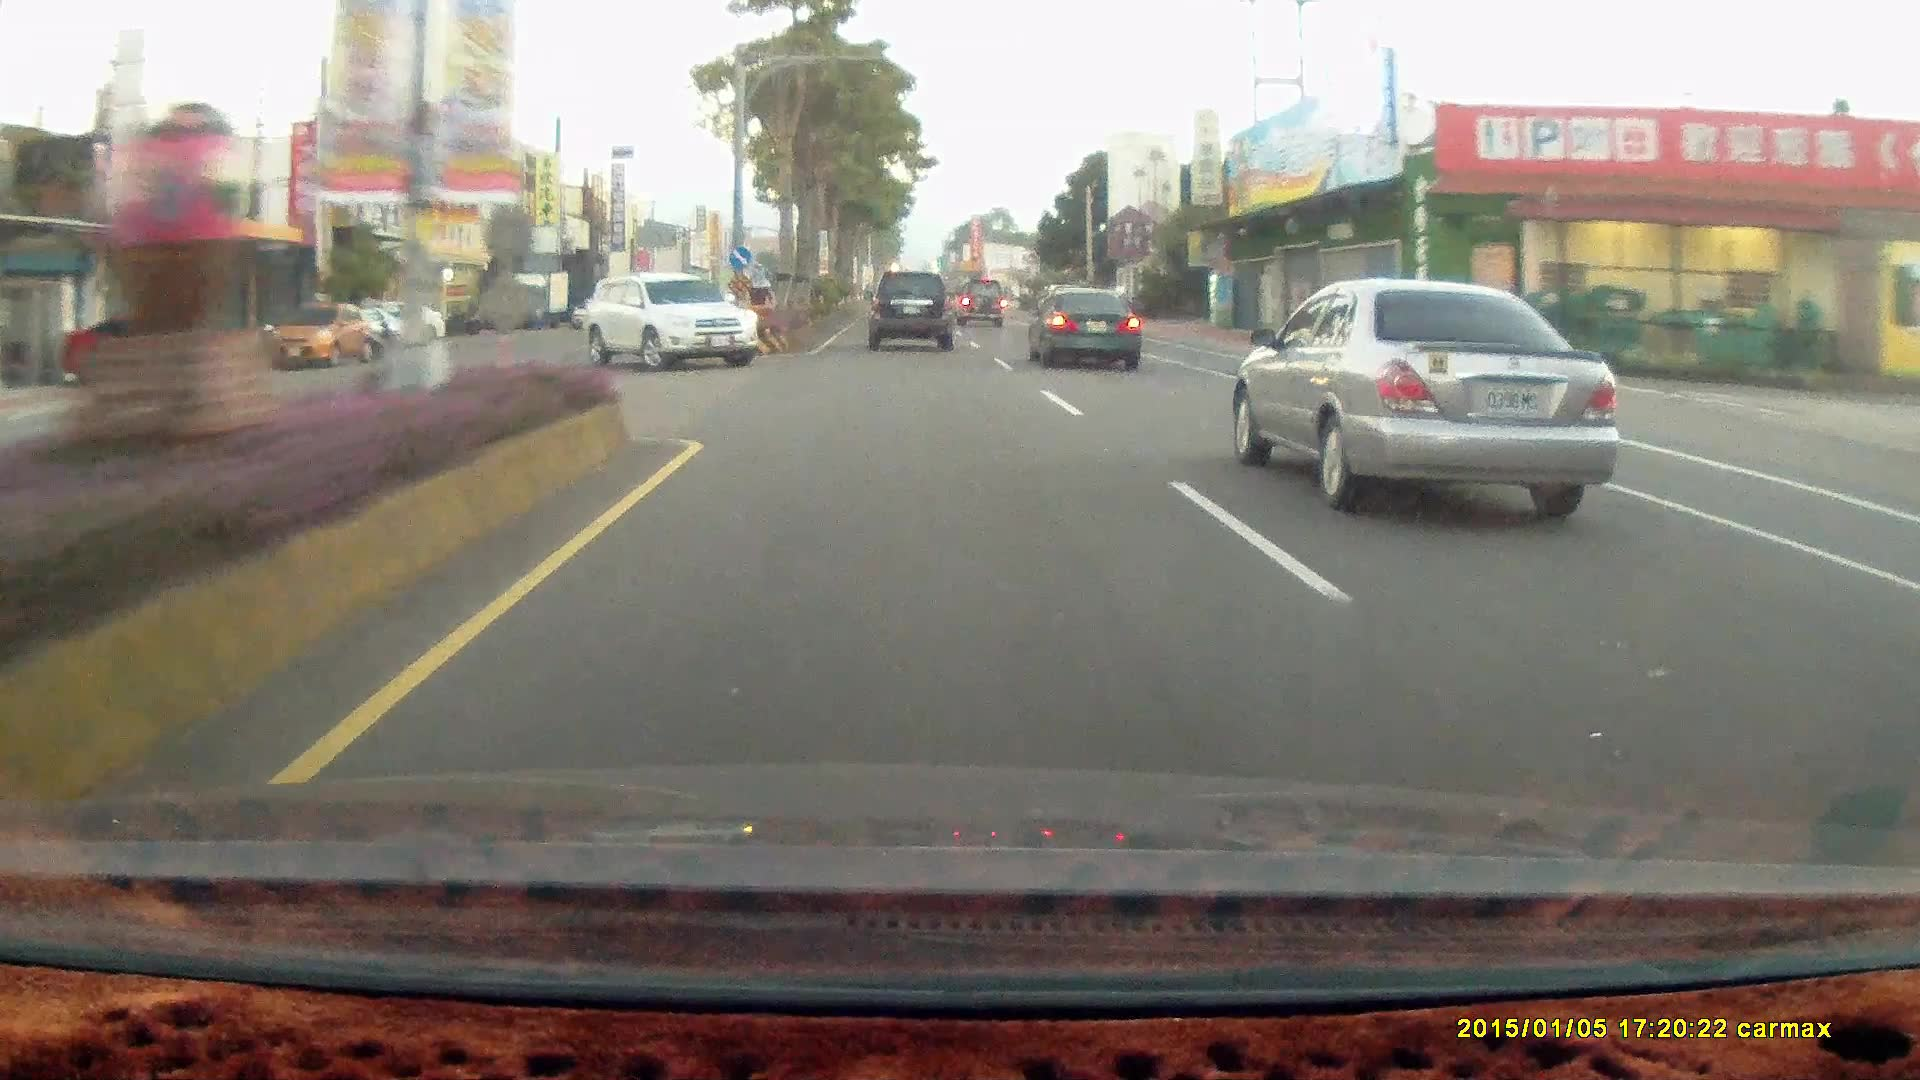vehicle: (1225, 276, 1622, 524), (579, 268, 760, 369), (580, 273, 761, 373), (45, 311, 245, 394), (61, 309, 249, 381), (1029, 286, 1143, 375), (1026, 284, 1141, 369), (865, 272, 961, 355), (266, 301, 375, 368), (266, 302, 375, 369), (866, 272, 951, 349), (340, 299, 444, 348), (953, 278, 1007, 327), (955, 280, 1007, 328)
